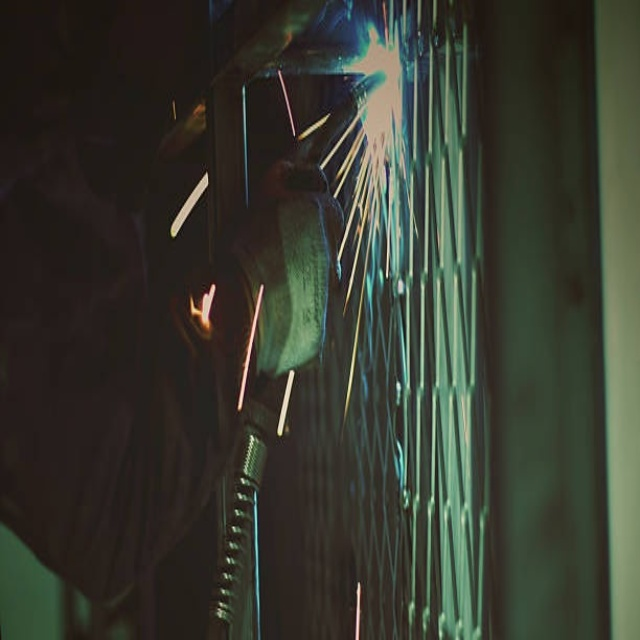Guantes: (218, 159, 343, 385)
